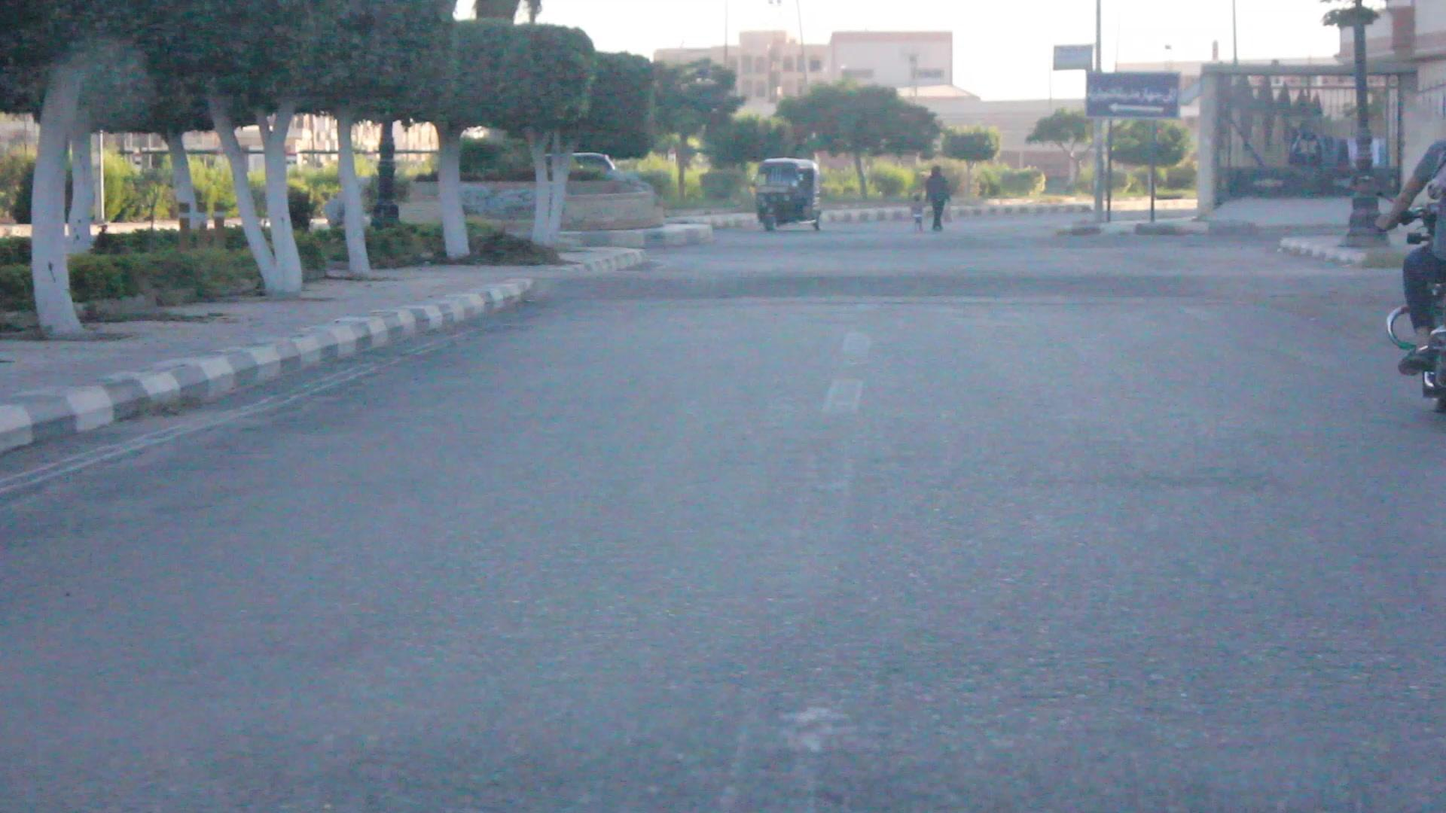Bump: (517, 266, 1408, 301)
